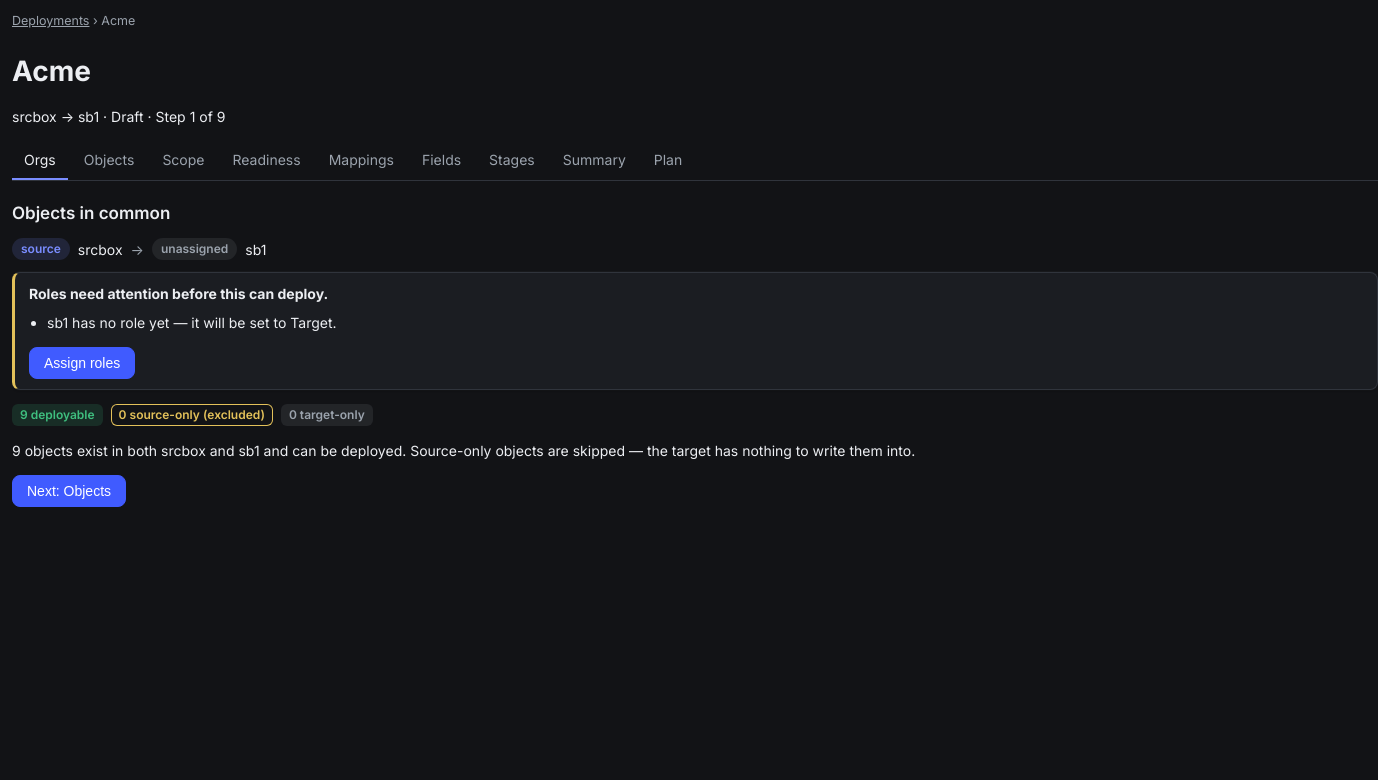
Scenario: StepOrgs gate › shows the pair roles and fixes an unassigned target in one click
Check: the text "9 deployable" is shown, box [12,404,103,426]
Check: the text "Roles need attention before this can deploy." is shown, box [29,285,328,302]
What coordinates should you click on to do the following:
click the button "Assign roles"
I would click on:
 (82, 363)
Its box is [29,347,135,379].
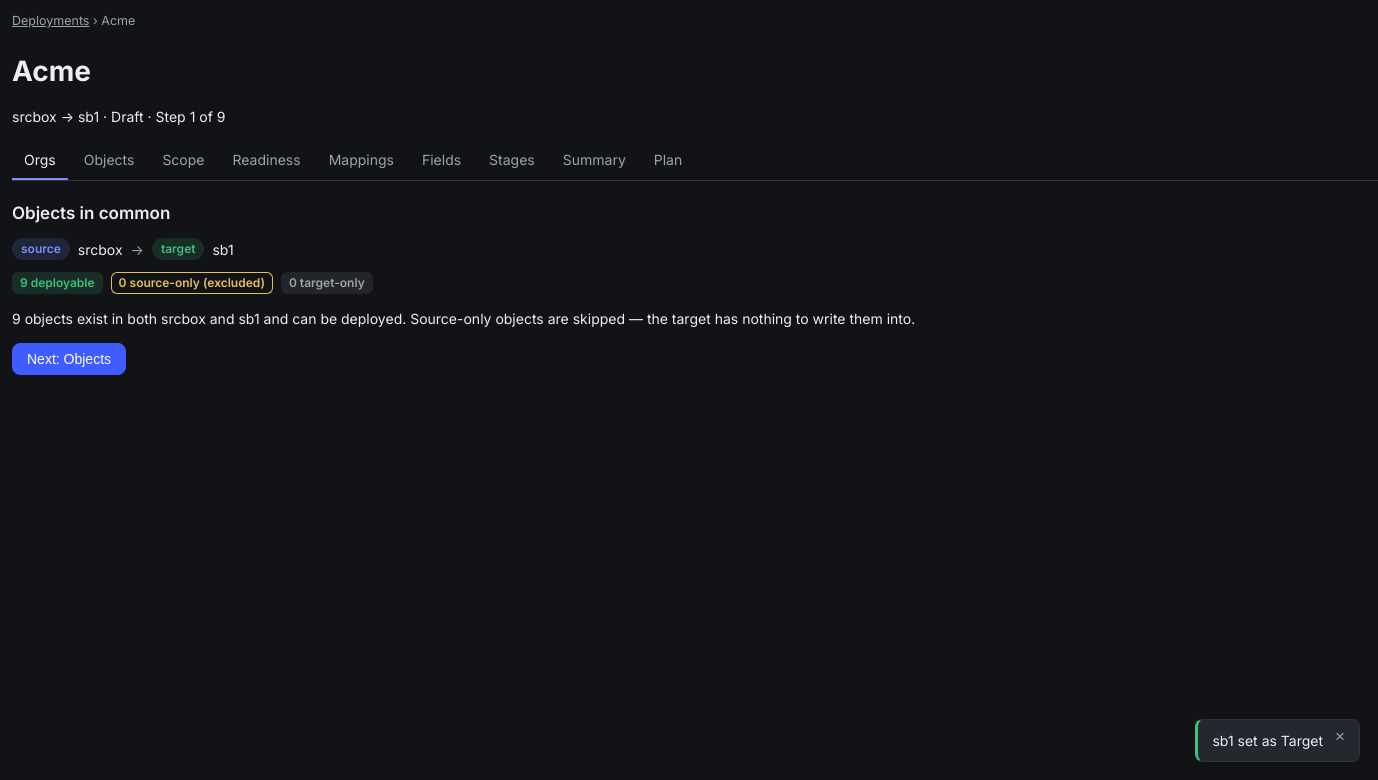
Check: the text "sb1 set as Target" is shown, box [1212,730,1323,751]
Check: the text "Roles need attention" is gone
Check: the text "target" is shown, box [152,238,204,260]
